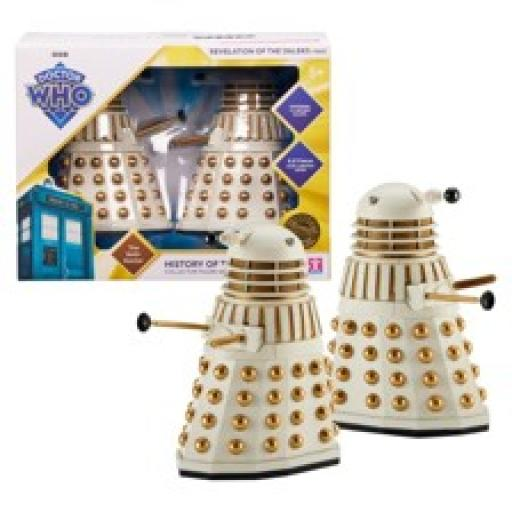dalek: (124, 228, 343, 481), (324, 181, 504, 437), (158, 66, 290, 227), (59, 94, 189, 224)
